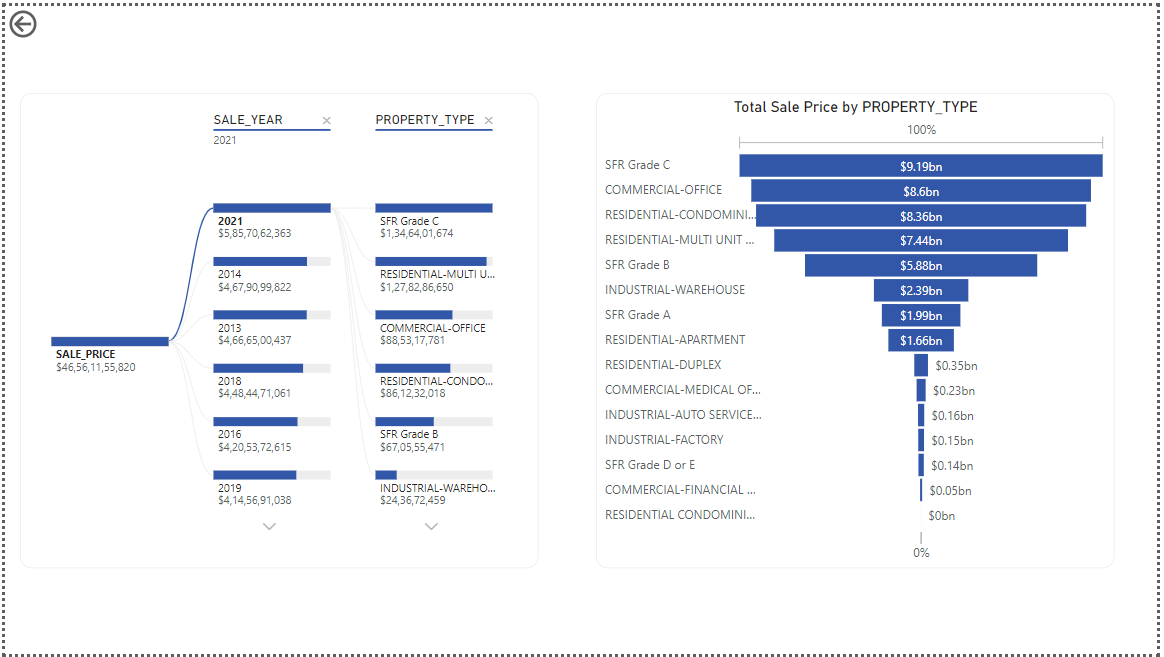

The dashboard page shown, as its layout file describes it:
{"tool":"powerbi","page":{"name":"Decomposite Tree ","canvas":[1280,720],"ordinal":1},"visuals":[{"type":"decompositionTreeVisual","fields":{"Analyze":["Sum(denver_property_sales.SALE_PRICE)"],"ExplainBy":["denver_property_sales.SALE_YEAR","denver_property_sales.PROPERTY_TYPE"]},"box":[16,96,576,528],"z":0},{"type":"actionButton","box":[0,0,100,40],"z":2},{"type":"funnel","fields":{"Category":["denver_property_sales.PROPERTY_TYPE"],"Y":["denver_property_sales.Total Sale Price"]},"box":[656,96,576,528],"z":3}]}

Visuals, with their boxes in screenshot pixels (x1, y1, x2, y2), scaled from the page's 1280x720 canvas onto the 1164x657 screenshot:
decompositionTreeVisual - Sum(denver_property_sales.SALE_PRICE) x denver_property_sales.SALE_YEAR: box=[15, 88, 538, 569]
actionButton: box=[0, 0, 91, 36]
funnel - denver_property_sales.PROPERTY_TYPE x denver_property_sales.Total Sale Price: box=[597, 88, 1120, 569]
